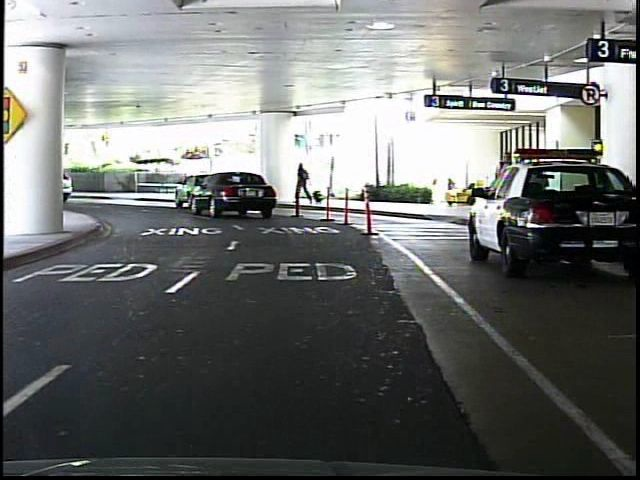person: (292, 161, 319, 209)
